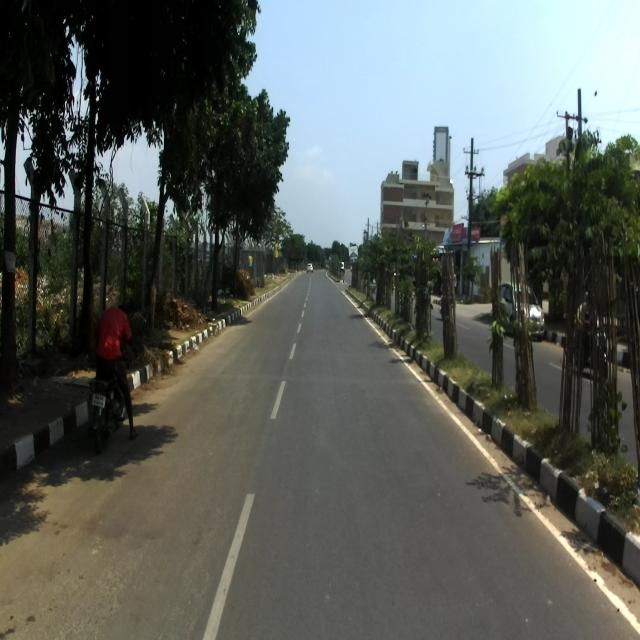motorcycle: (85, 333, 132, 452)
